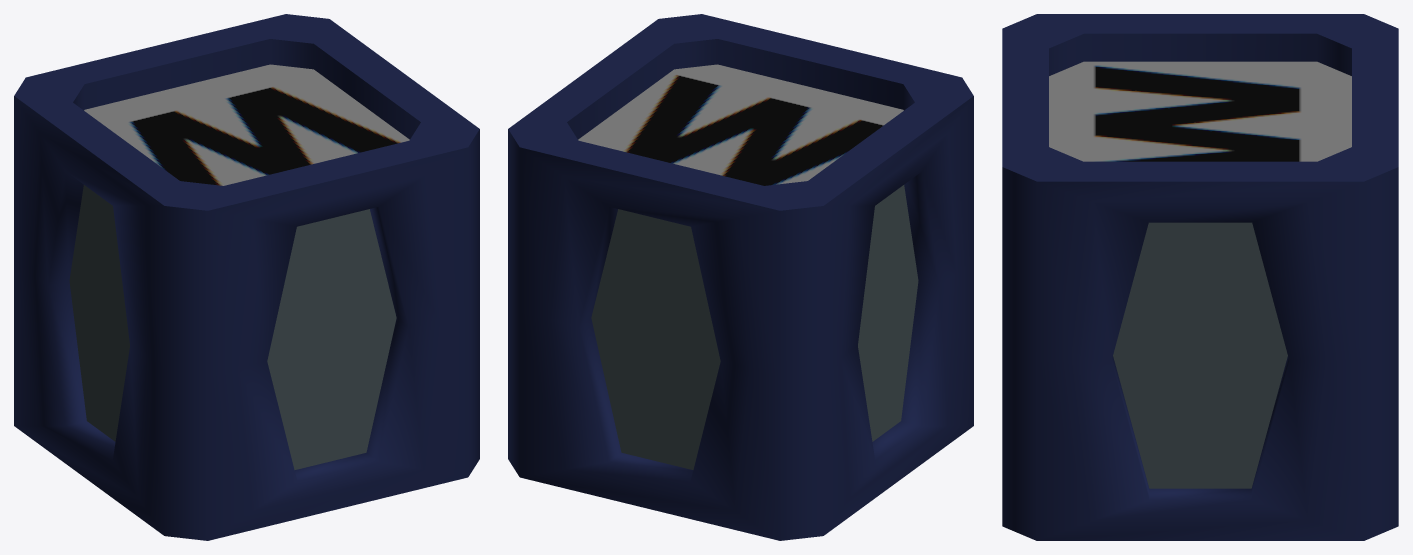
The model's file is fant_wasd_converter.obj.
3 views of the same model, side by side, from view 1: azimuth 30°, elevation 25°; view 2: azimuth 150°, elevation 25°; view 3: azimuth 270°, elevation 25° (orthographic). The views are drawn at different scales.
Visible parts, largest first — view 1: fant_wasd_converter_Cube; view 2: fant_wasd_converter_Cube; view 3: fant_wasd_converter_Cube.
Boxes of the visible parts, x1,y1,x2,y2 form: fant_wasd_converter_Cube: (14, 14, 479, 540); fant_wasd_converter_Cube: (508, 14, 973, 540); fant_wasd_converter_Cube: (1002, 14, 1398, 540).
Size of the model in its own units: 1 by 1 by 1.
